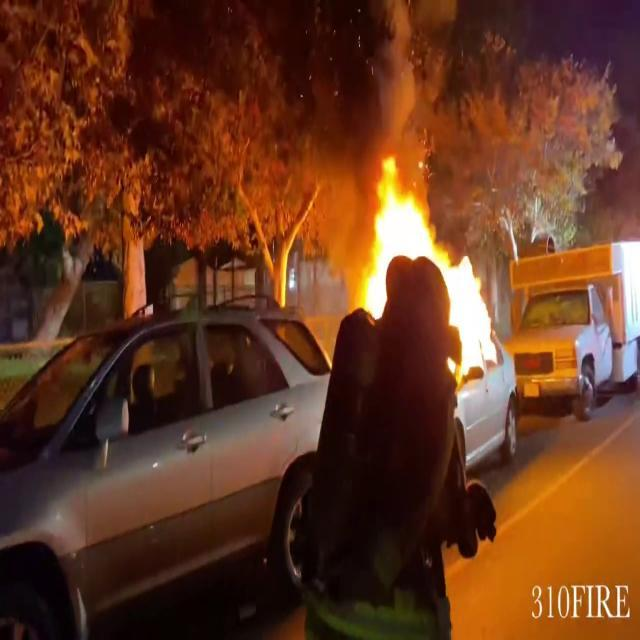Fire: (352, 147, 500, 385)
Smoke: (278, 0, 431, 203)
